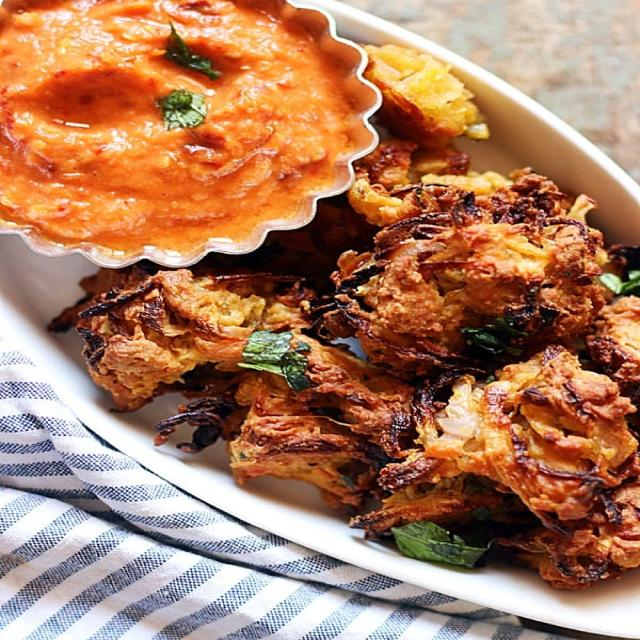BAJI: (58, 27, 639, 625)
